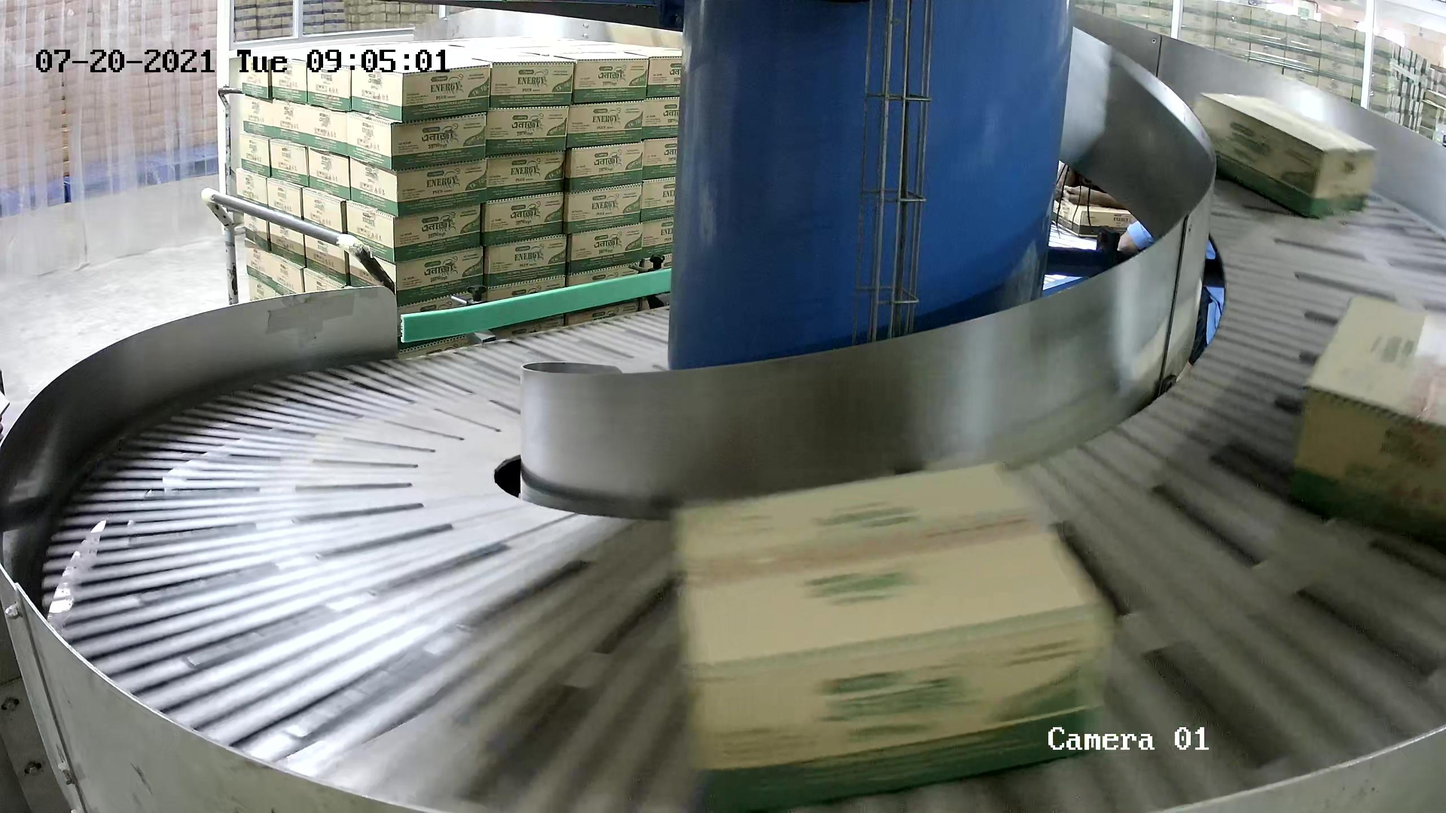Box: (670, 457, 1118, 813), (1288, 292, 1446, 546), (1192, 91, 1378, 217)
